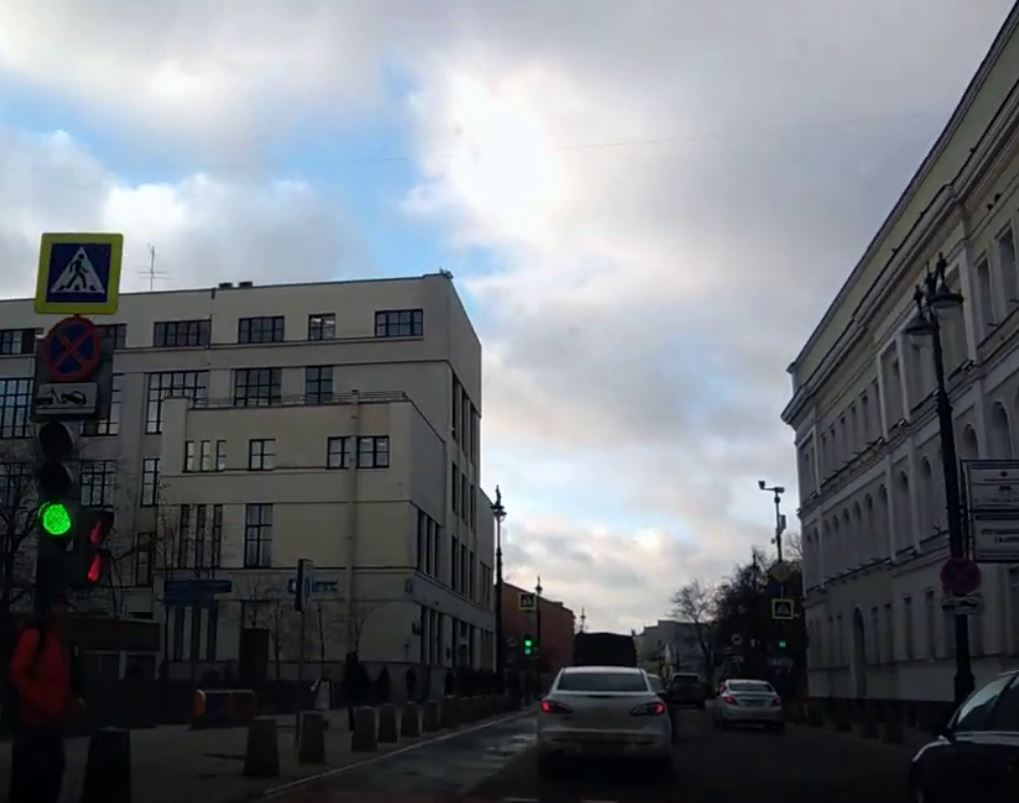Yaya Gecidi: (50, 238, 107, 304)
